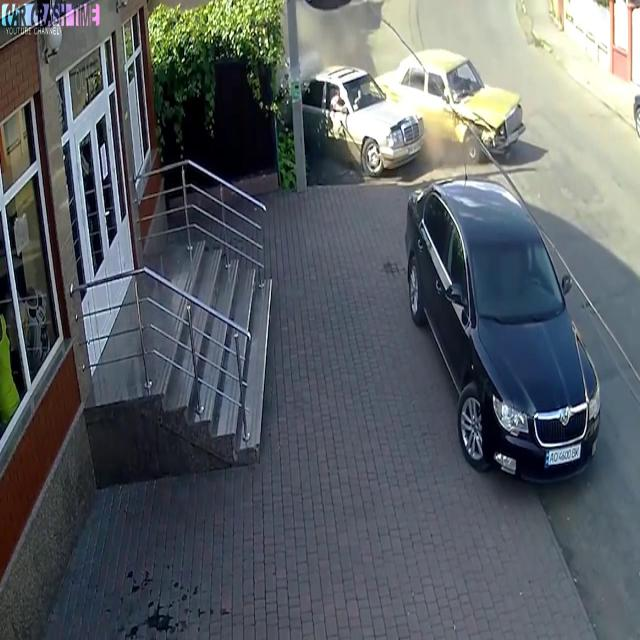accident: (304, 40, 530, 181)
